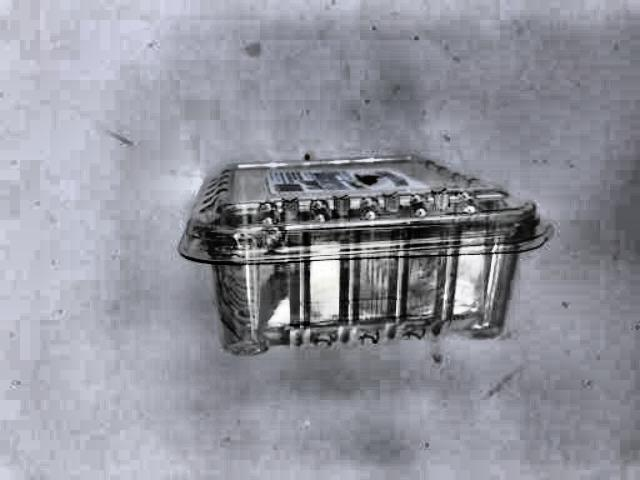Plastic: (177, 150, 563, 353)
